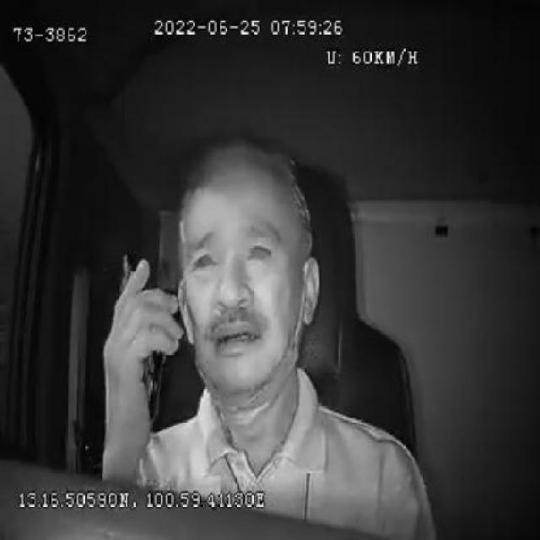phone: (116, 246, 166, 428)
